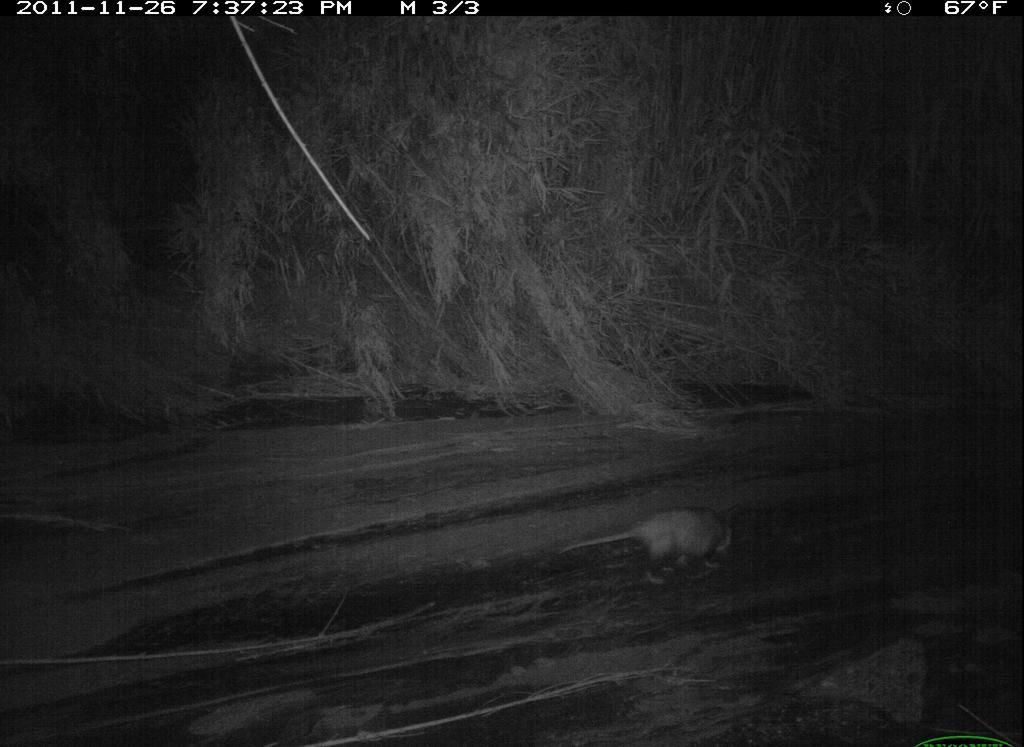opossum: (556, 506, 744, 591)
